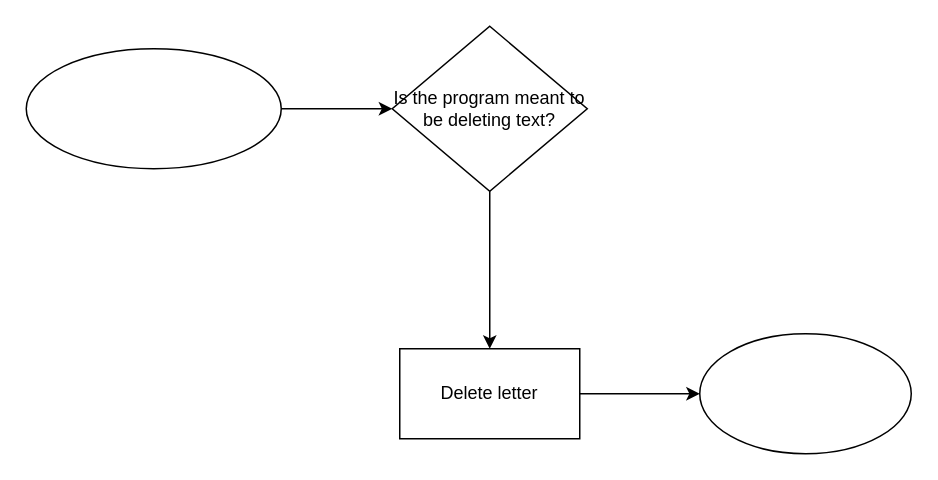
The diagram is 938 pixels wide and 480 high, and some of its shapes have lost their labels. Each missing label, with the box of its shape:
Game.__CheckForBackspace() called: (25, 47, 281, 169)
Set timeSinceLastBackspace to 0: (698, 332, 911, 454)
